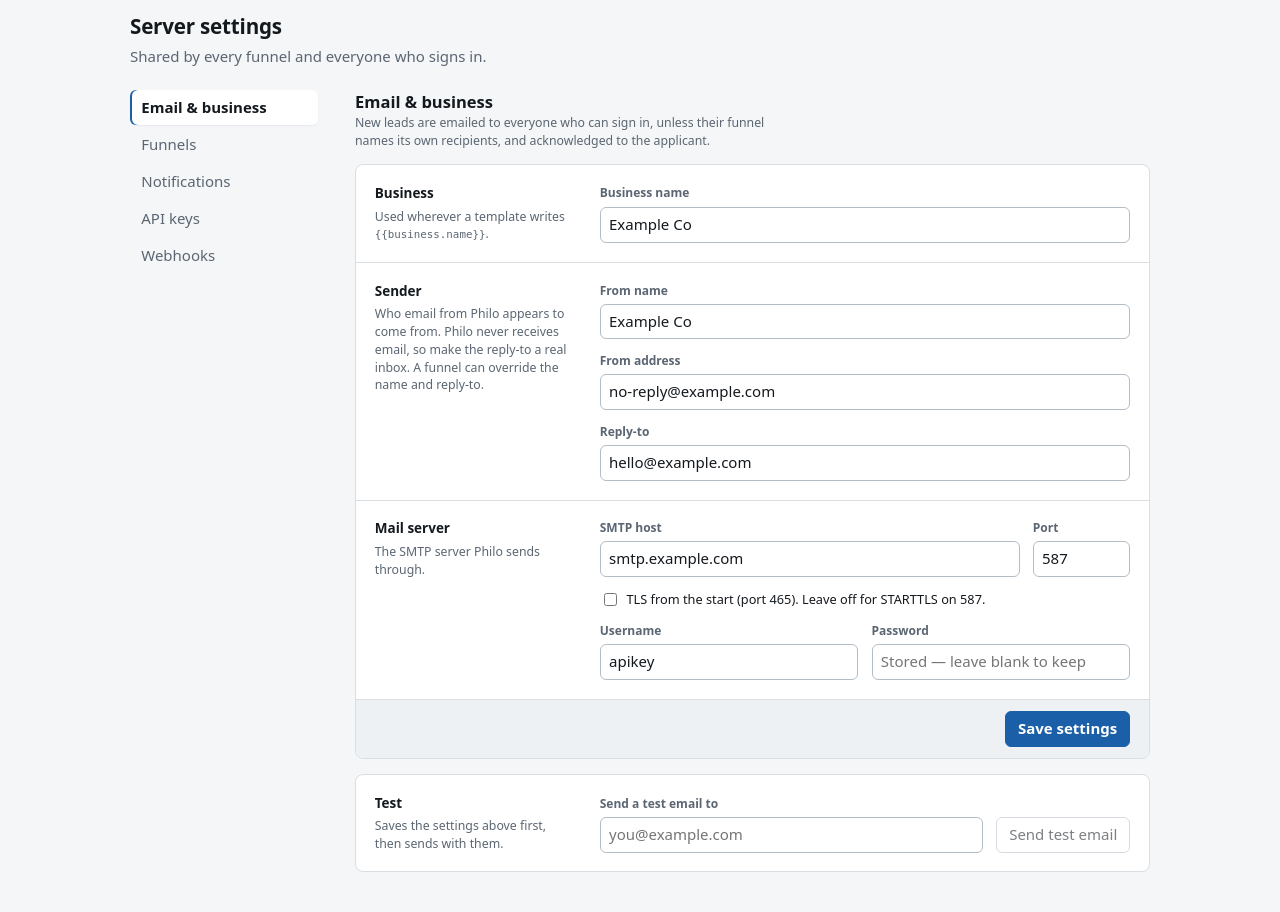
Test: Settings › saves the edited fields
Type "smtp2.example.com" into the field labelled "SMTP host" at (810, 559), box x1=600 y1=541 x2=1020 y2=577
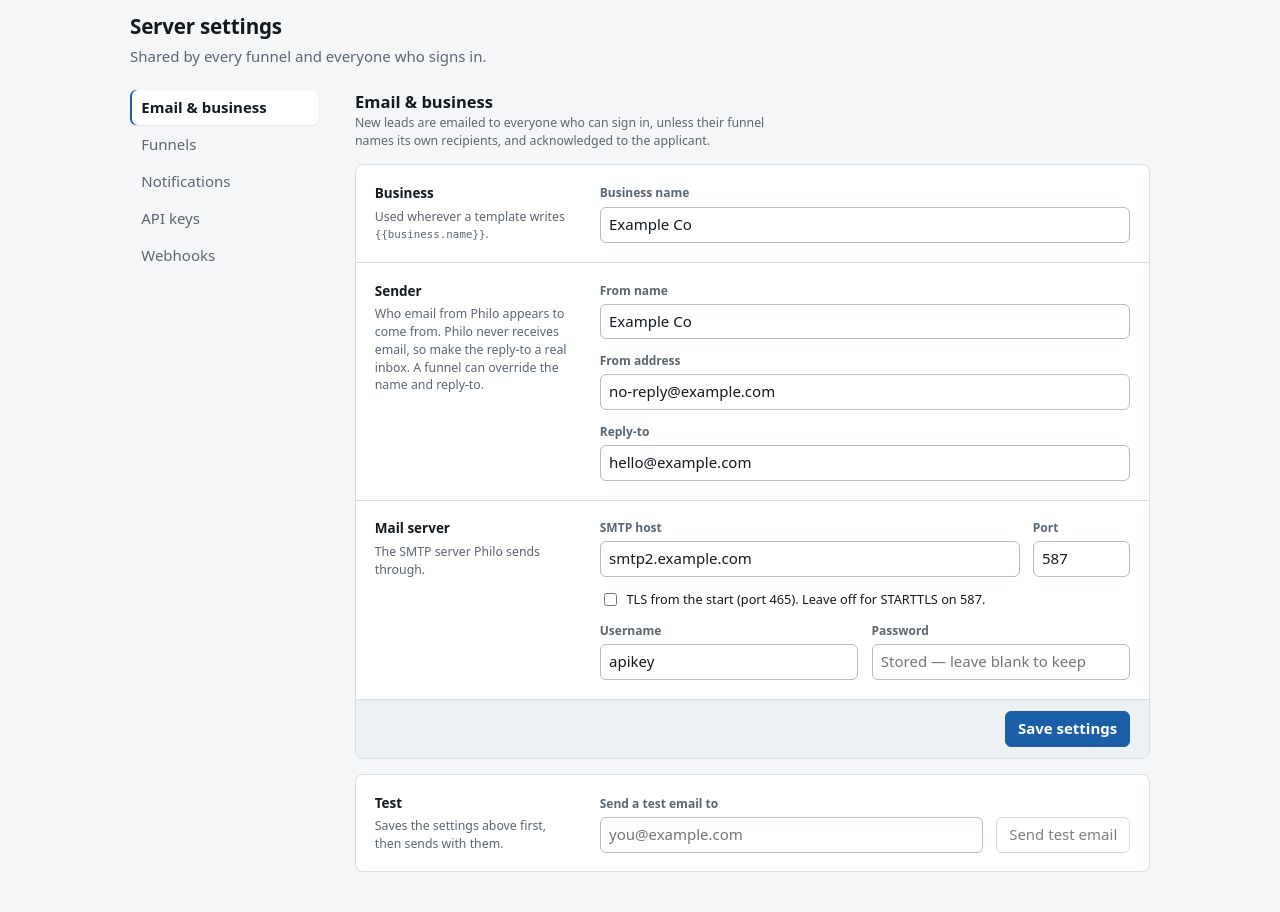
Replace the text in the number field labelled "Port" with "465" at (1082, 559), box x1=1033 y1=541 x2=1130 y2=577
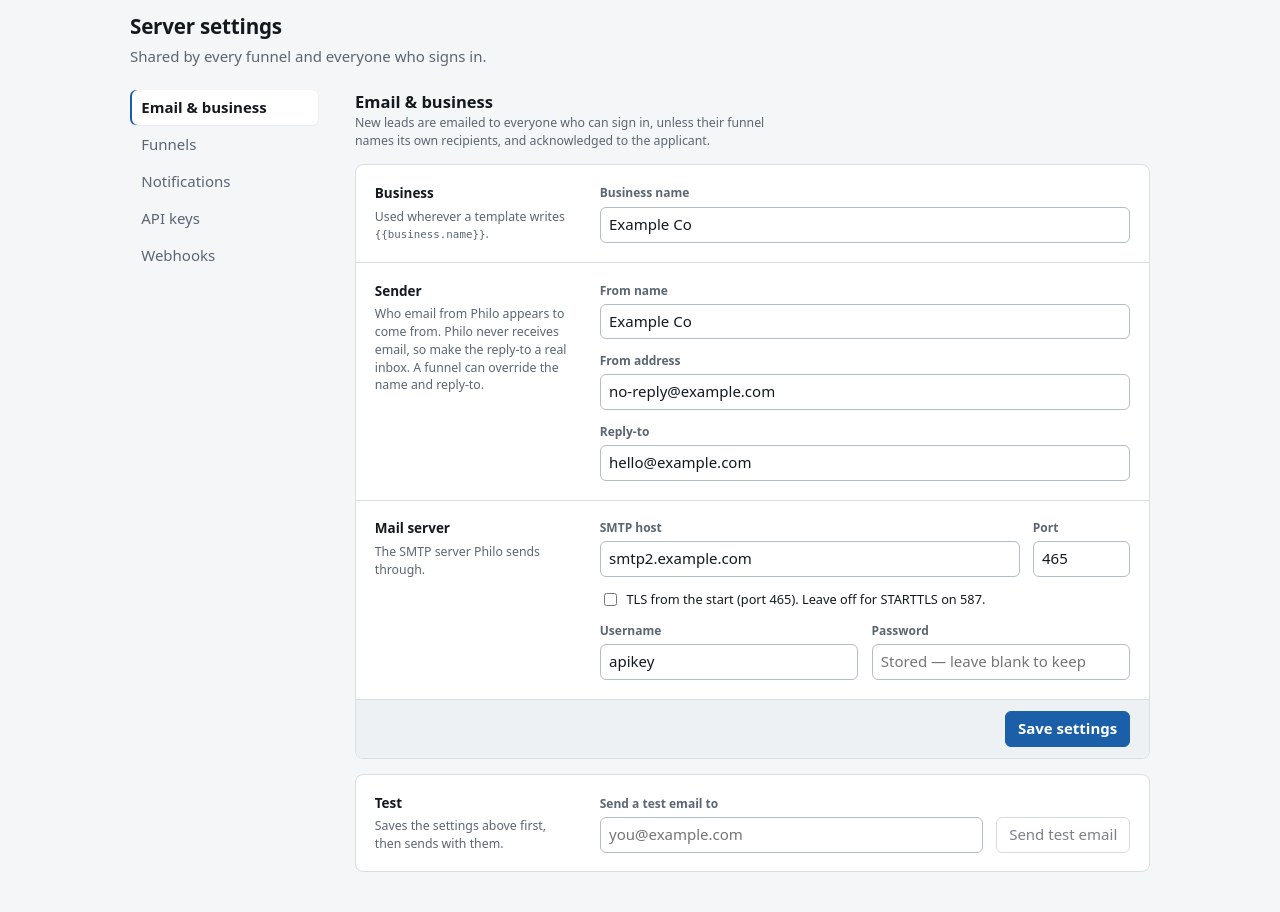
Click the checkbox labelled "TLS from the start" at (610, 600), box x1=604 y1=593 x2=617 y2=606
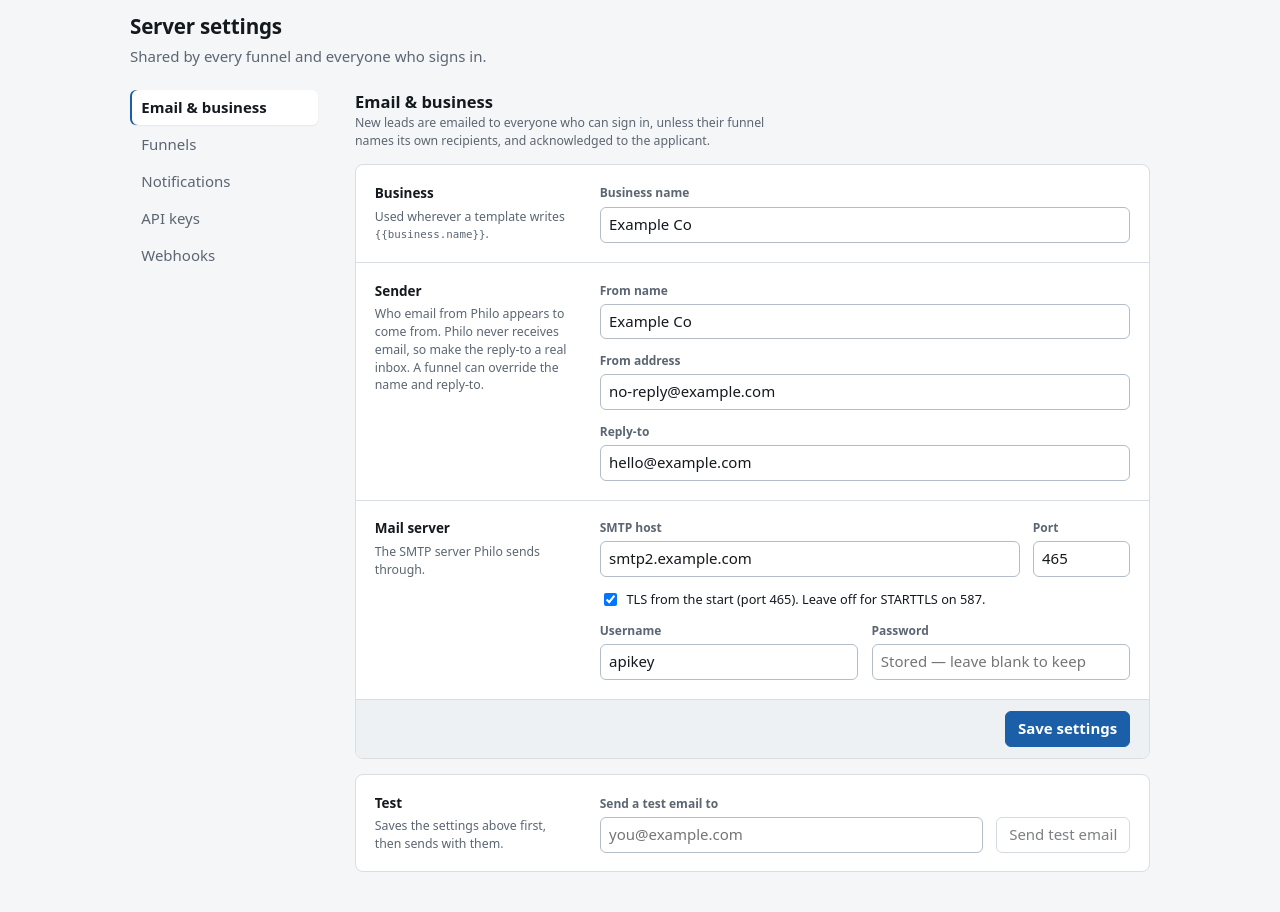
Click the button "Save settings" at (1068, 729), box x1=1005 y1=711 x2=1130 y2=747
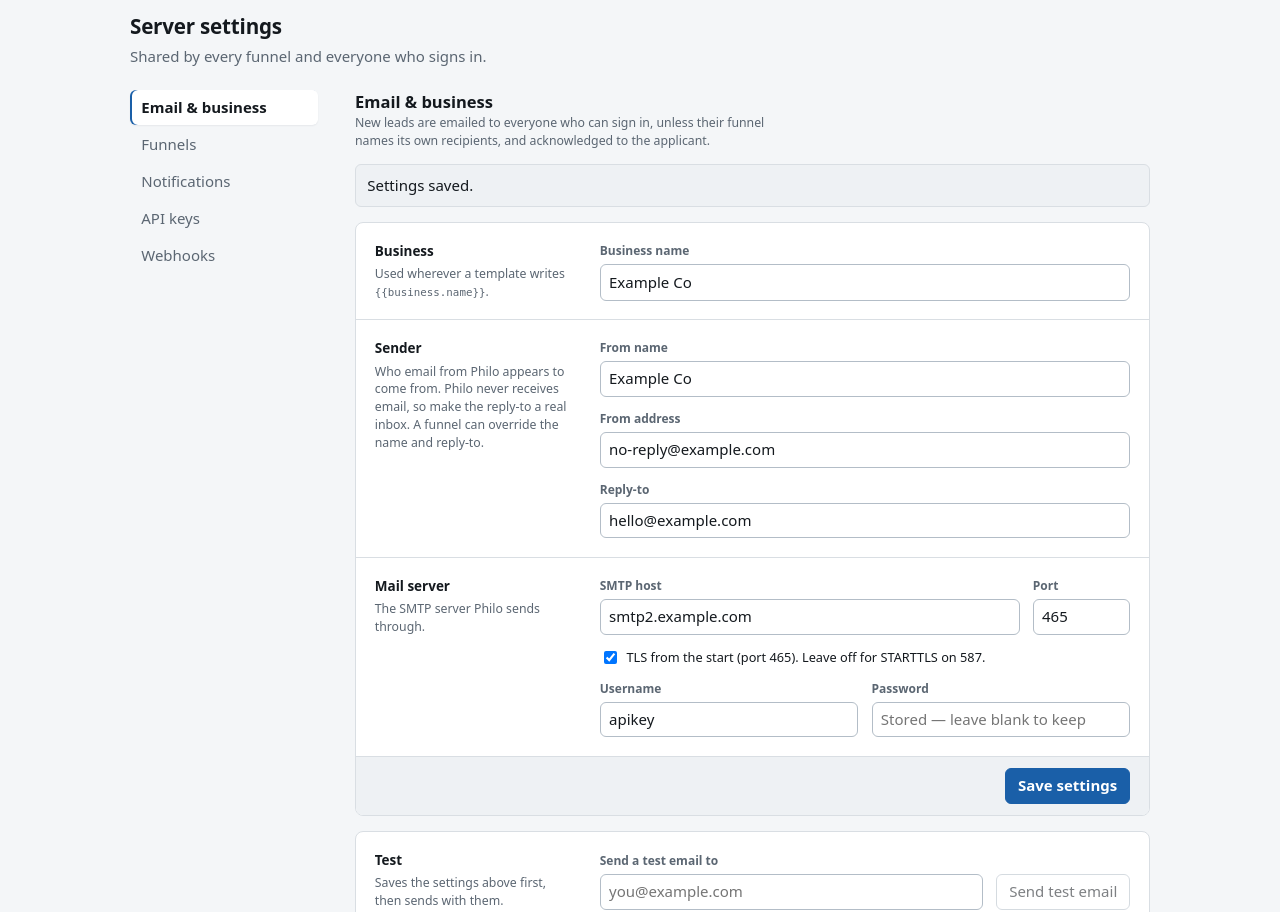
Now the text "Settings saved." is shown, box x1=355 y1=164 x2=1150 y2=207
